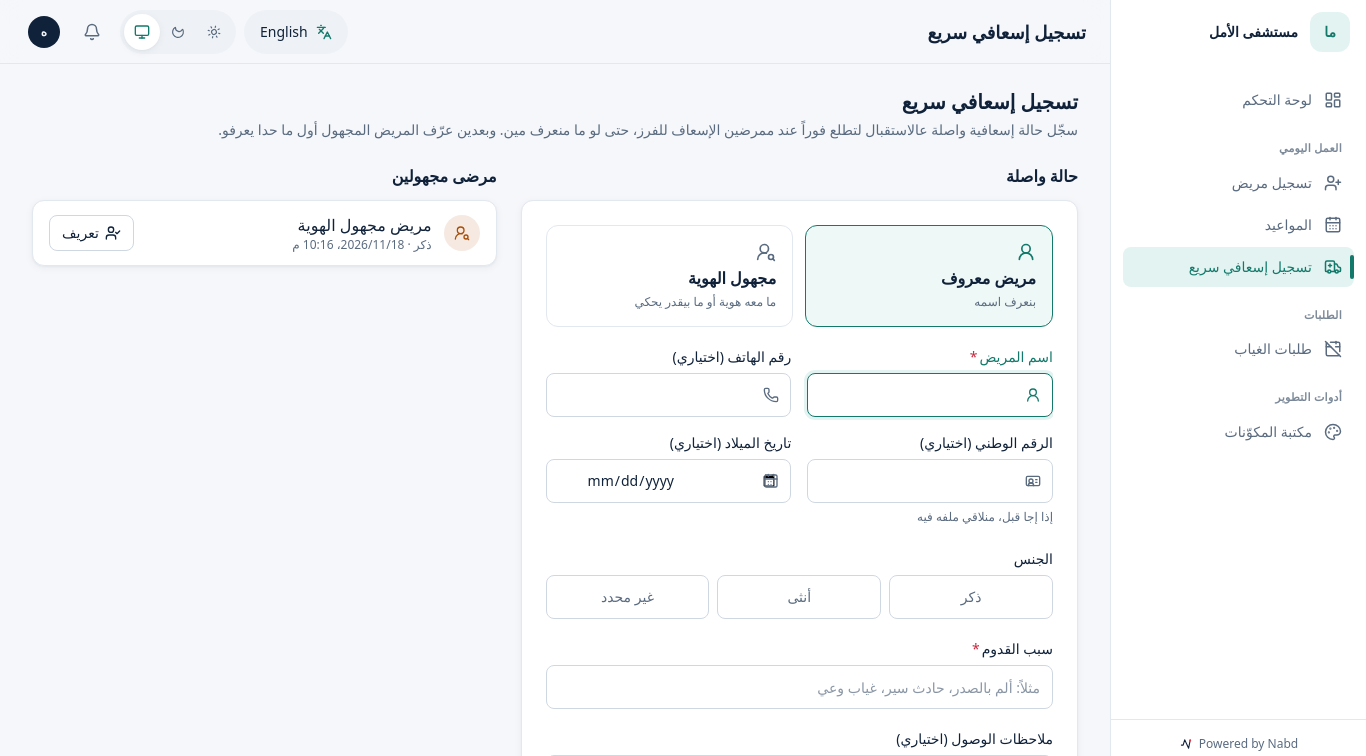
Test: ReceptionEmergencyPage (task 4.3) › sends an unidentified arrival to the ER from the desk
The image size is (1366, 756).
Step 1. Click the radio button labelled "مجهول الهوية ما معه هوية أو ما بيقدر يحكي" → (669, 276), box [546,225,793,327]
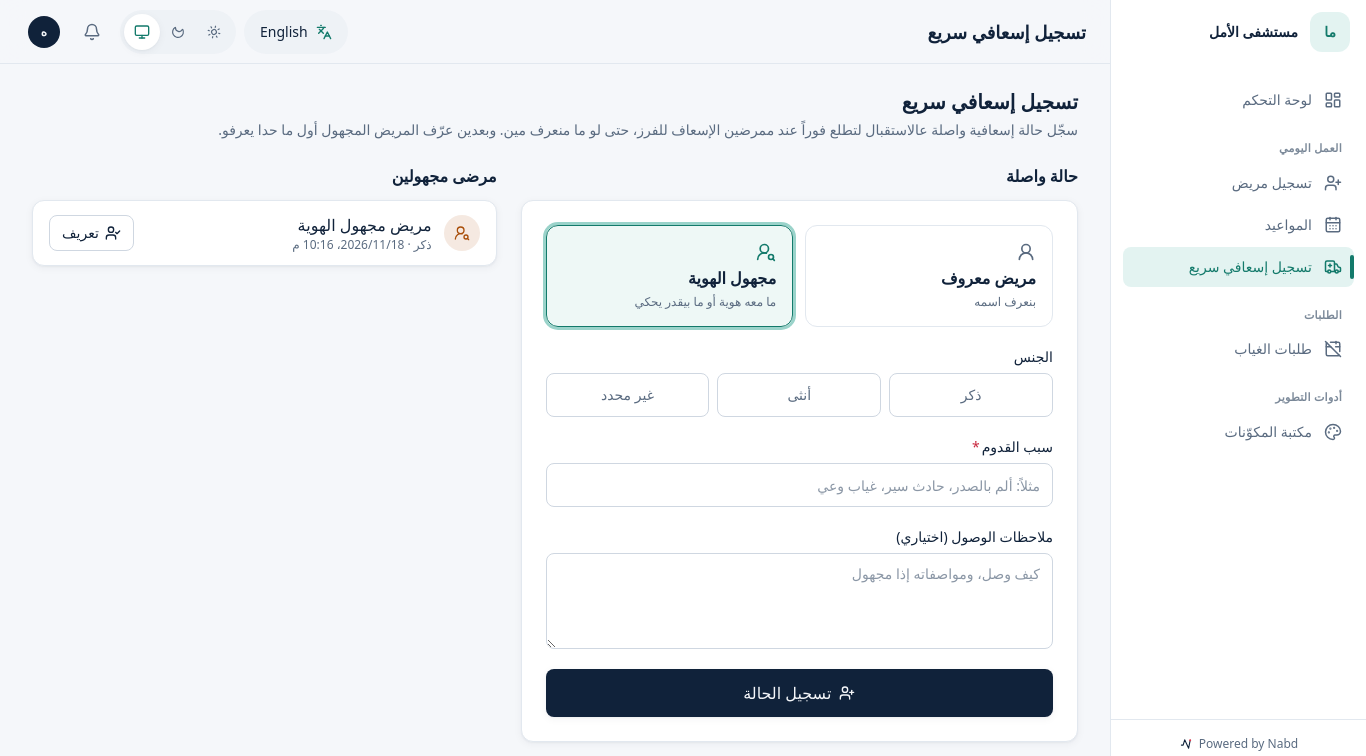
Step 2. Type "حادث سير" into the field labelled "سبب القدوم*" → (799, 485), box [546,463,1053,507]
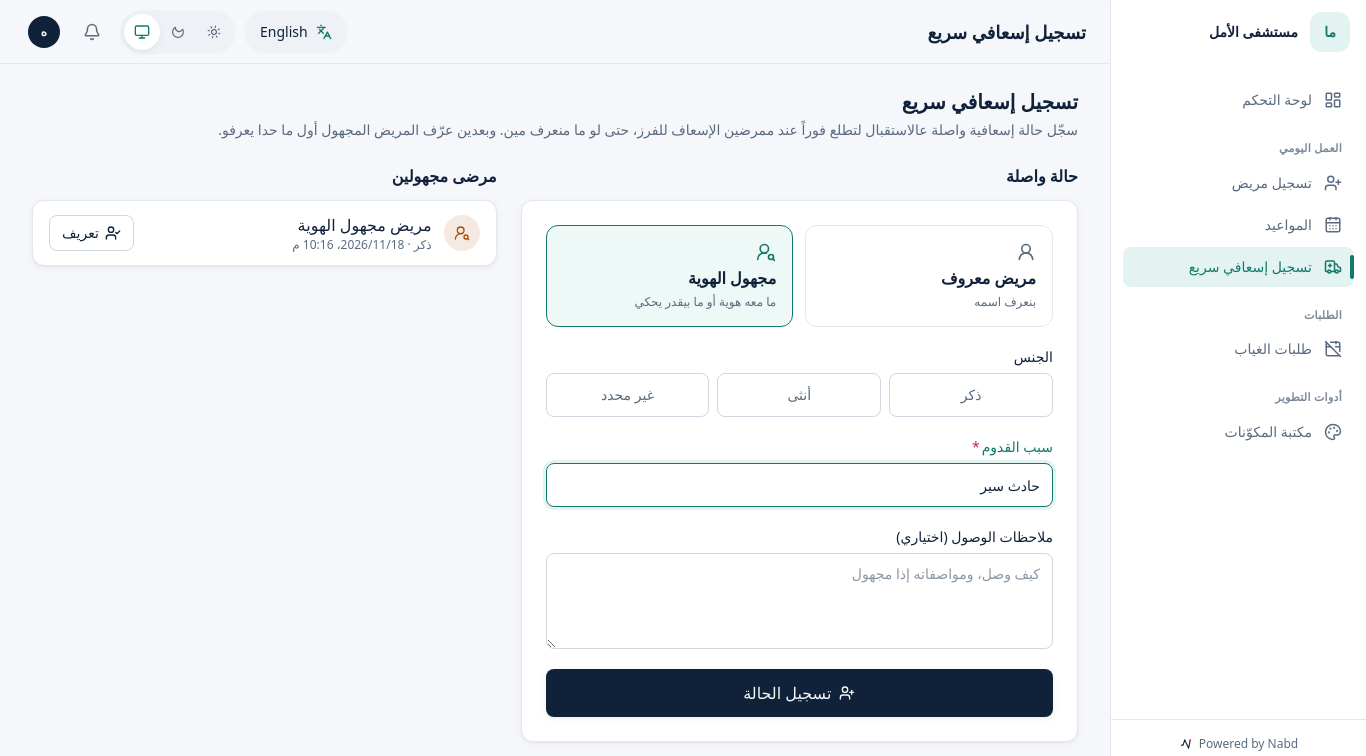
Step 3. Click the button "تسجيل الحالة" → (799, 693), box [546,669,1053,717]
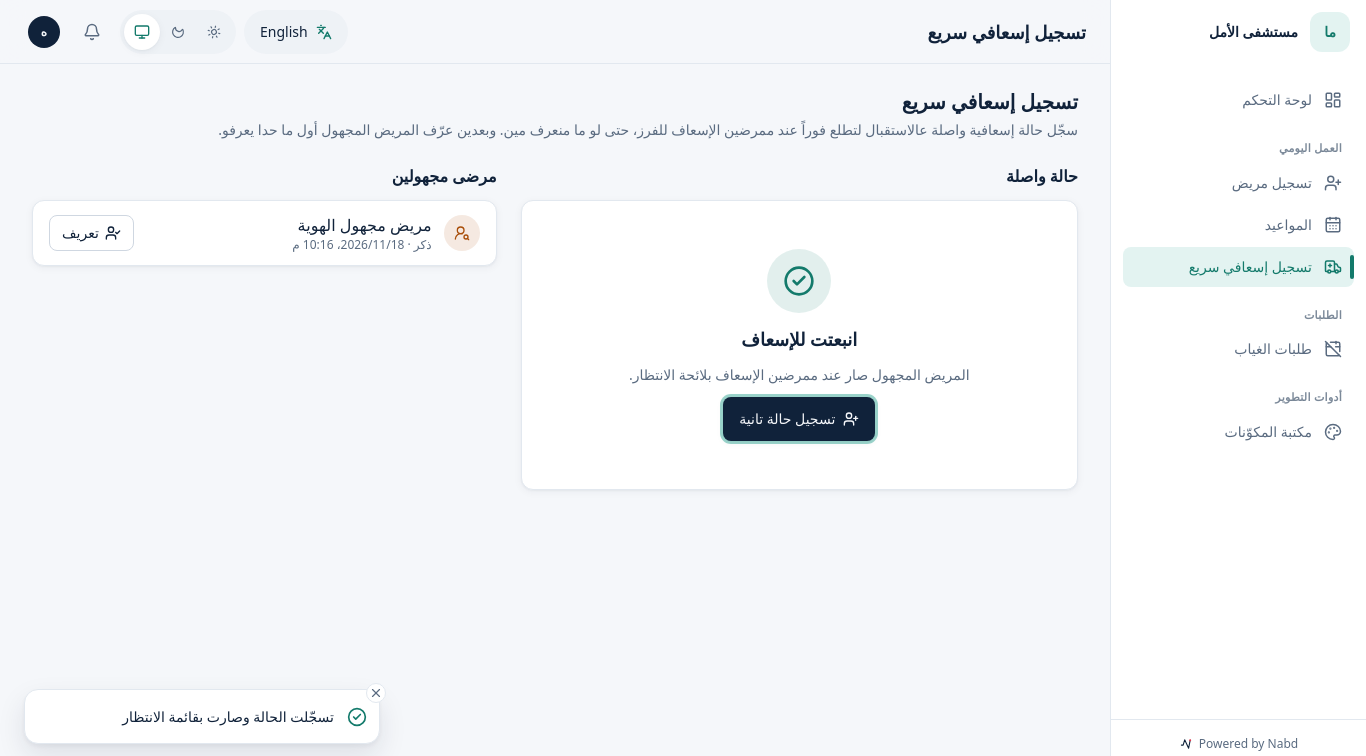
Expected: the message shows "المريض المجهول صار عند ممرضين الإسعاف", [629,365,970,384]
